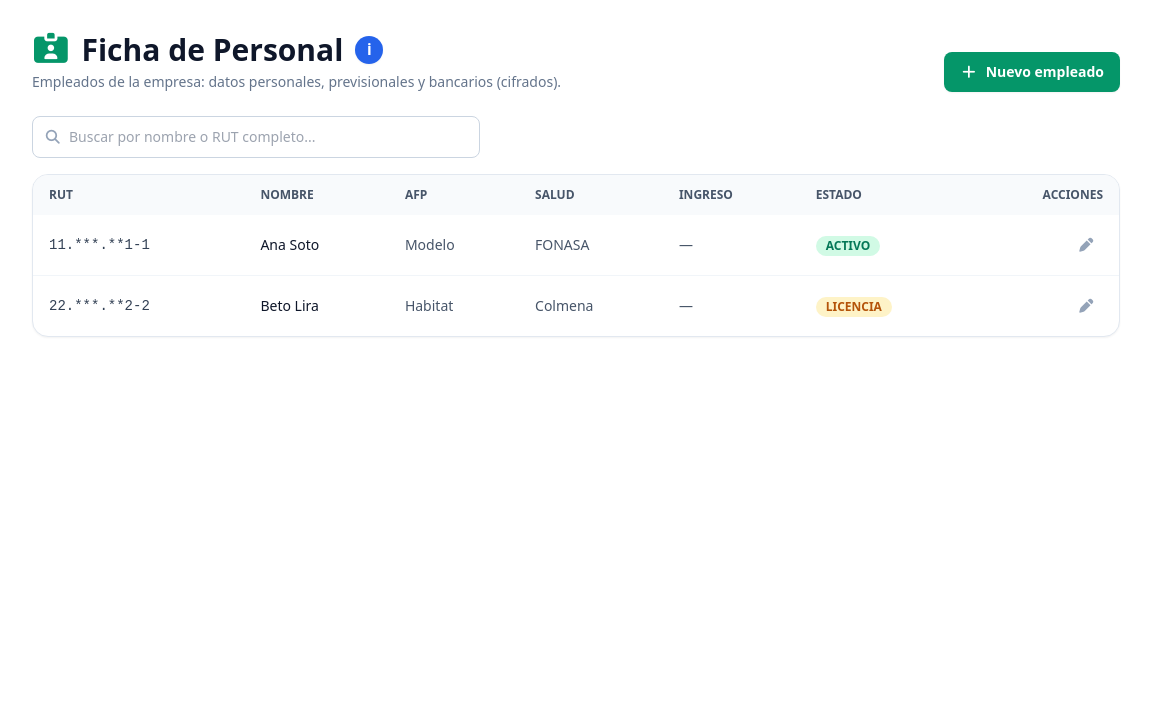
Test: EmpleadosRrhh › formatea el RUT con puntos y guion mientras se escribe
Expected: the text "Ana Soto" is shown, [244,215,389,276]
Click the button "Nuevo empleado": x=1032, y=72 [944,52,1120,92]
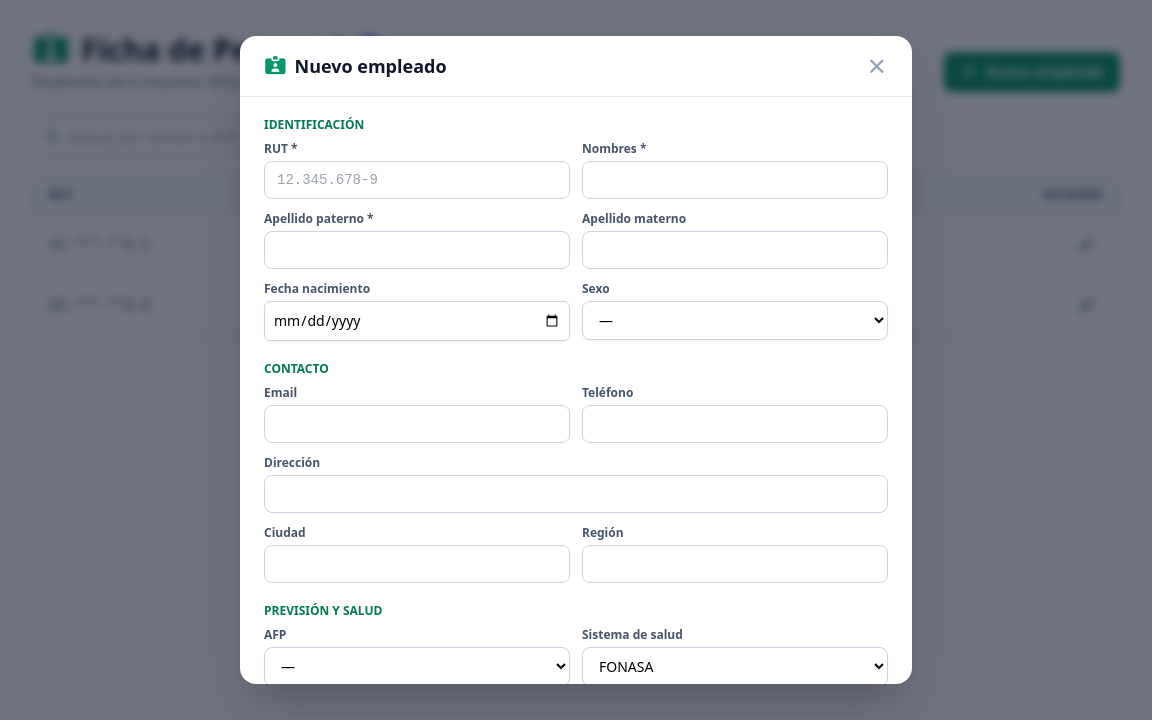
In the field with placeholder "12.345.678-9": x=417, y=180 [264,161,570,199], type "123456785"
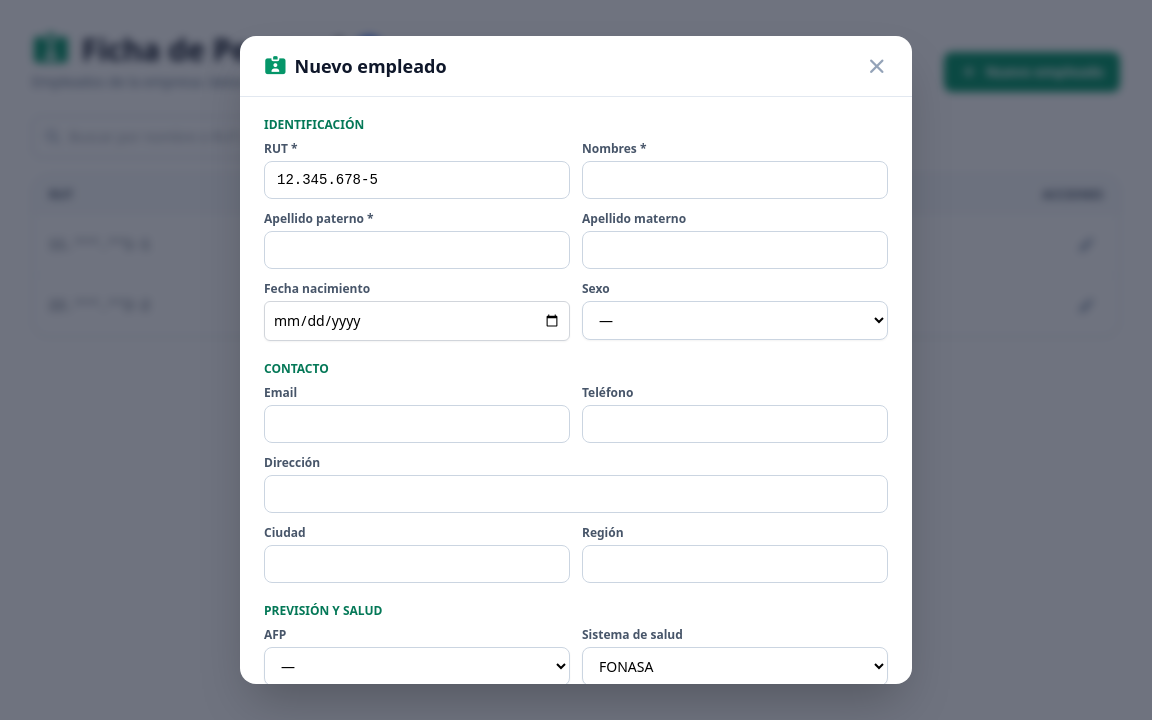
Expected: the field with placeholder "12.345.678-9" holds "12.345.678-5", [264,161,570,199]
